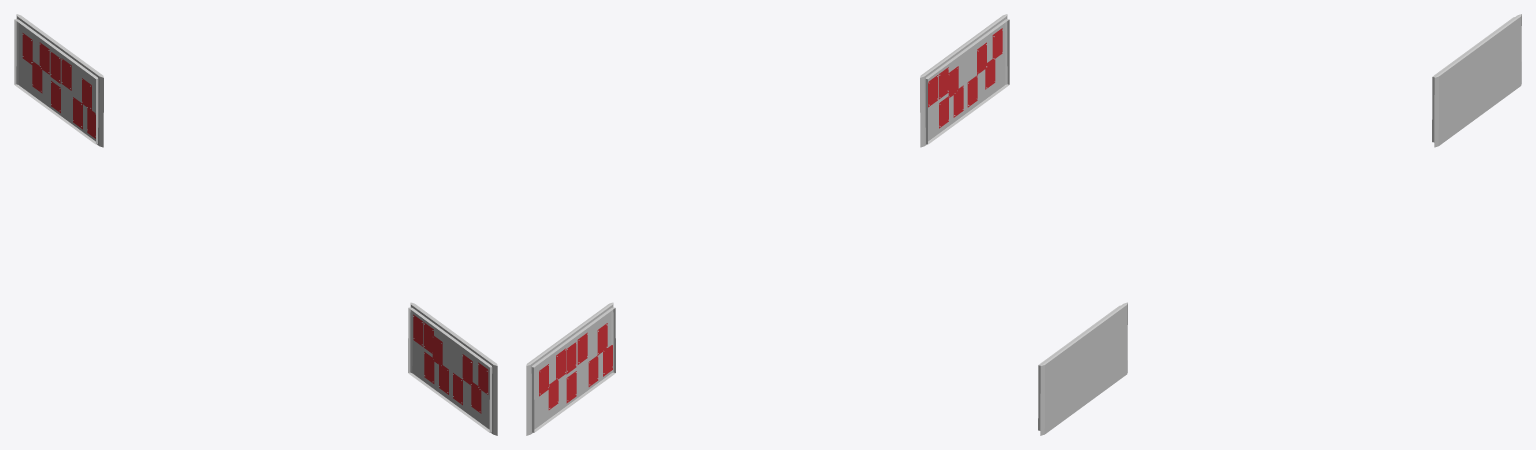
The model's file is Hall_bulletin_boards.fbx.
The picture shows the model from 3 angles, left to right: view 1: azimuth 30°, elevation 25°; view 2: azimuth 150°, elevation 25°; view 3: azimuth 330°, elevation 25°; orthographic projection.
Visible parts, largest first — view 1: Cube.624, Cube.625; view 2: Cube.625, Cube.624; view 3: Cube.624, Cube.625.
Part boxes in pixels (x1,y1,x2,y2): Cube.624: [408, 302, 497, 435]; Cube.625: [14, 14, 103, 147]; Cube.625: [526, 302, 615, 435]; Cube.624: [920, 14, 1009, 147]; Cube.624: [1038, 302, 1127, 435]; Cube.625: [1432, 14, 1521, 147].
Size of the model in its own units: 24.38 by 227 by 2830.
